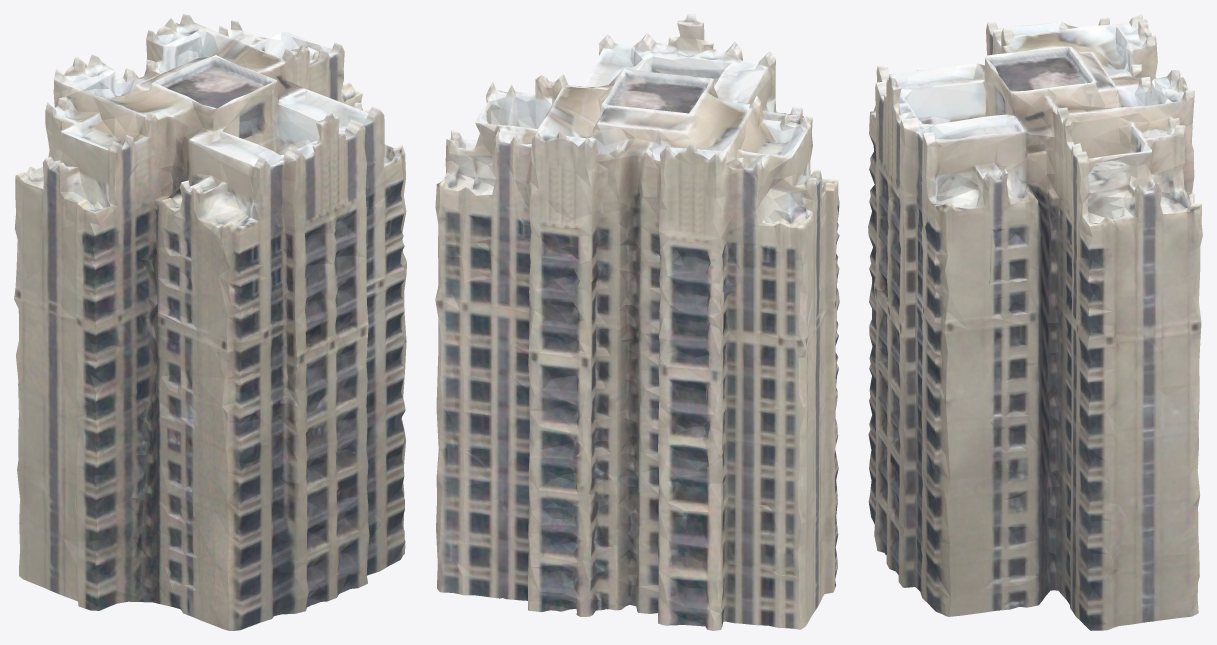
File: Tile__001__005_L20_000000t3.glb
The picture shows the model from 3 angles, left to right: view 1: azimuth 30°, elevation 25°; view 2: azimuth 150°, elevation 25°; view 3: azimuth 270°, elevation 25°; orthographic projection.
Parts seen in each view (by area): view 1: root; view 2: root; view 3: root.
Part boxes in pixels (x1=…): root: x1=14, y1=14, x2=406, y2=630; root: x1=435, y1=14, x2=839, y2=630; root: x1=868, y1=14, x2=1202, y2=630.
Size of the model in its own units: 24.48 by 32.53 by 20.16.
4 materials, 4 textured.
